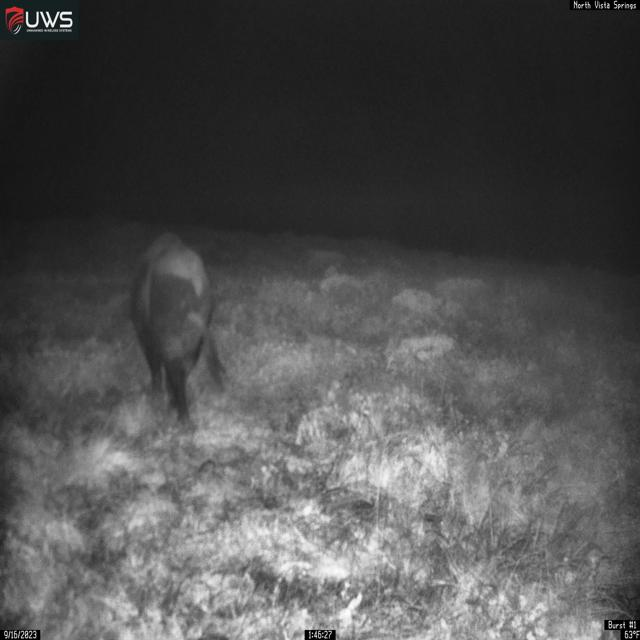pig: (129, 231, 228, 427)
